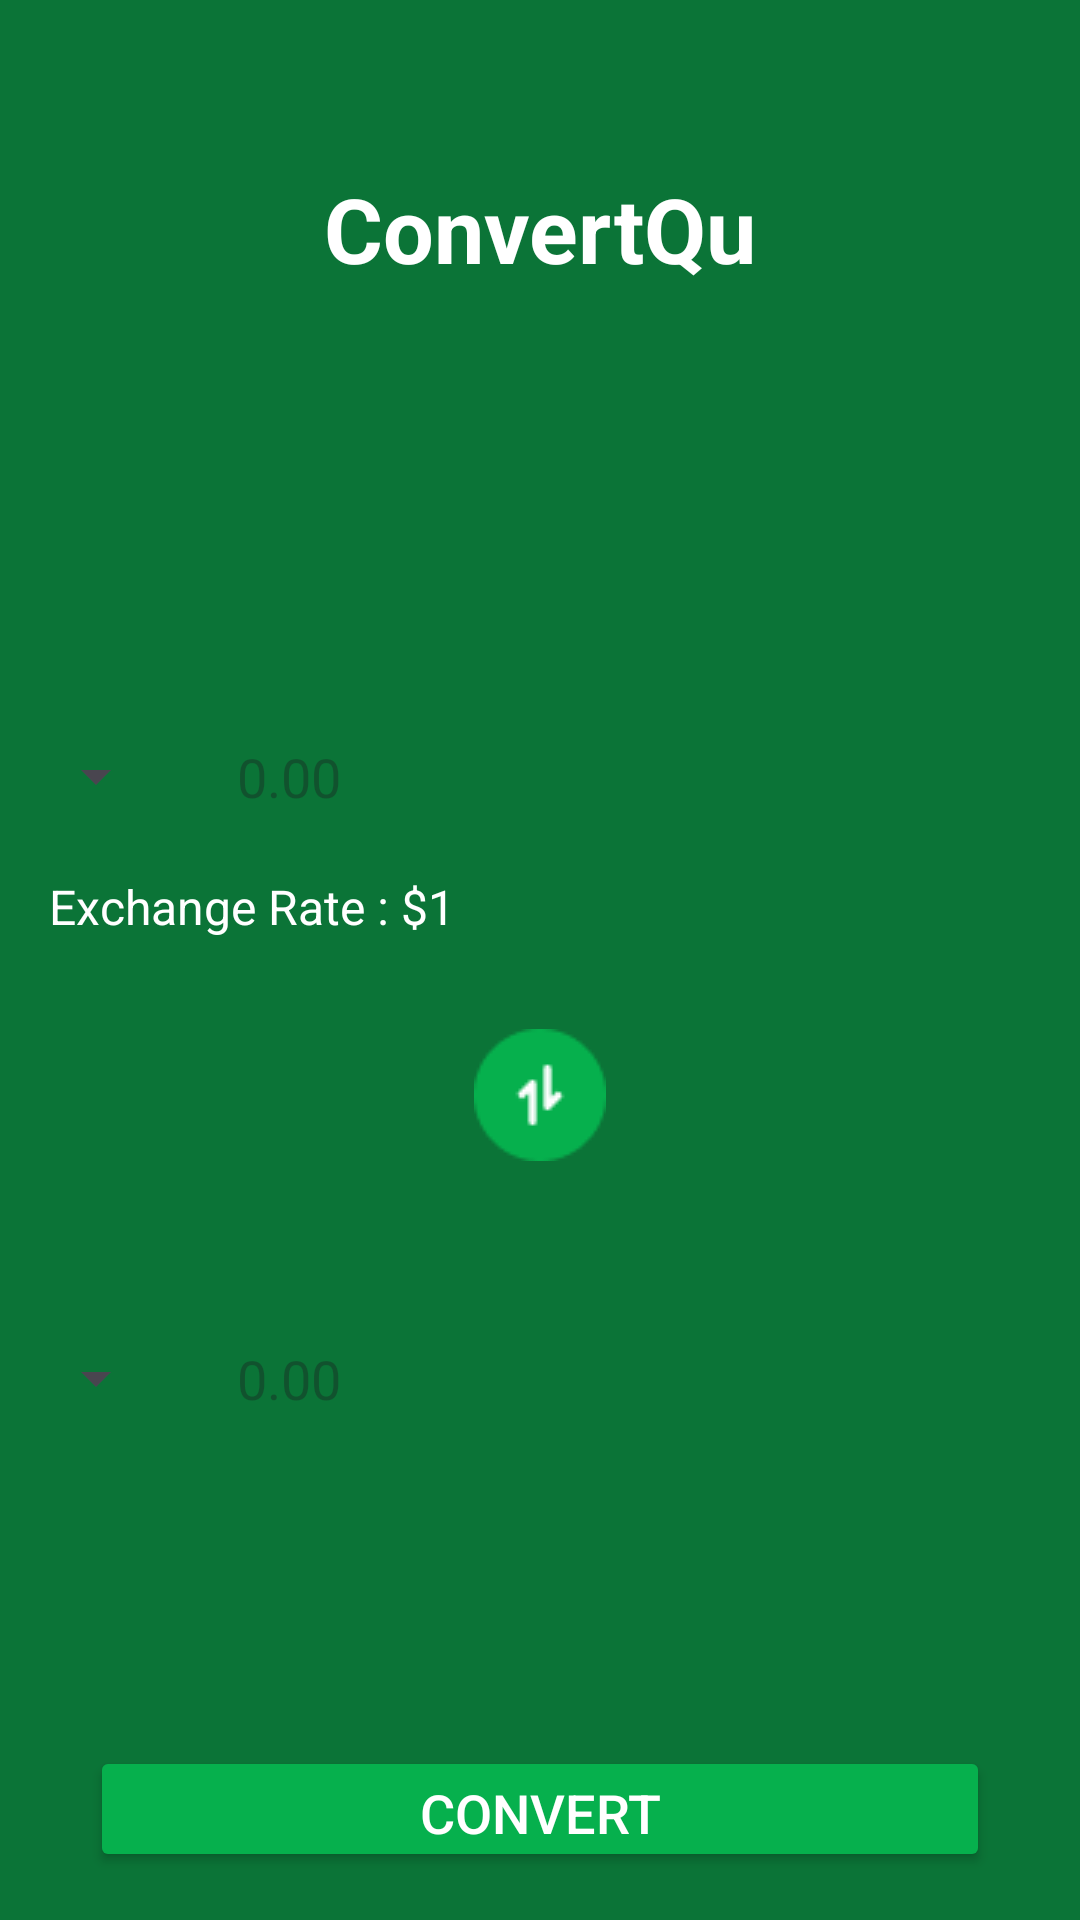

Named icons in this screenshot (1080x1920) and their bounding boxes, (x1, y1, x2, y2):
trade: (474, 1029, 606, 1161)
